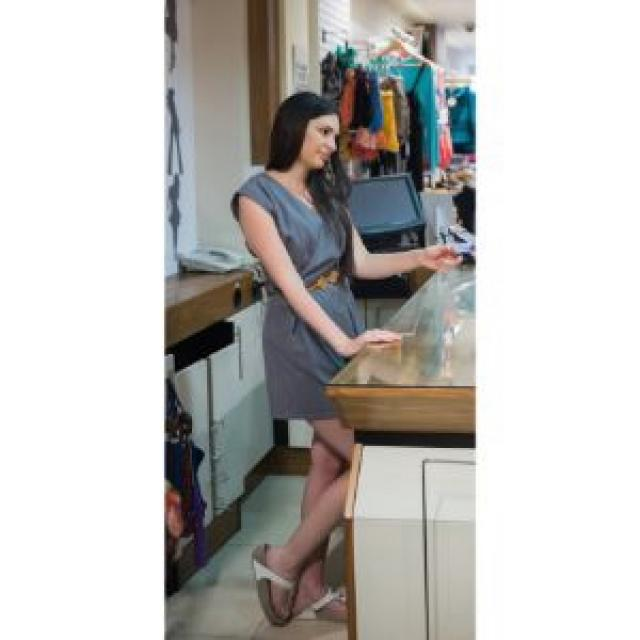adult: (230, 62, 459, 633)
